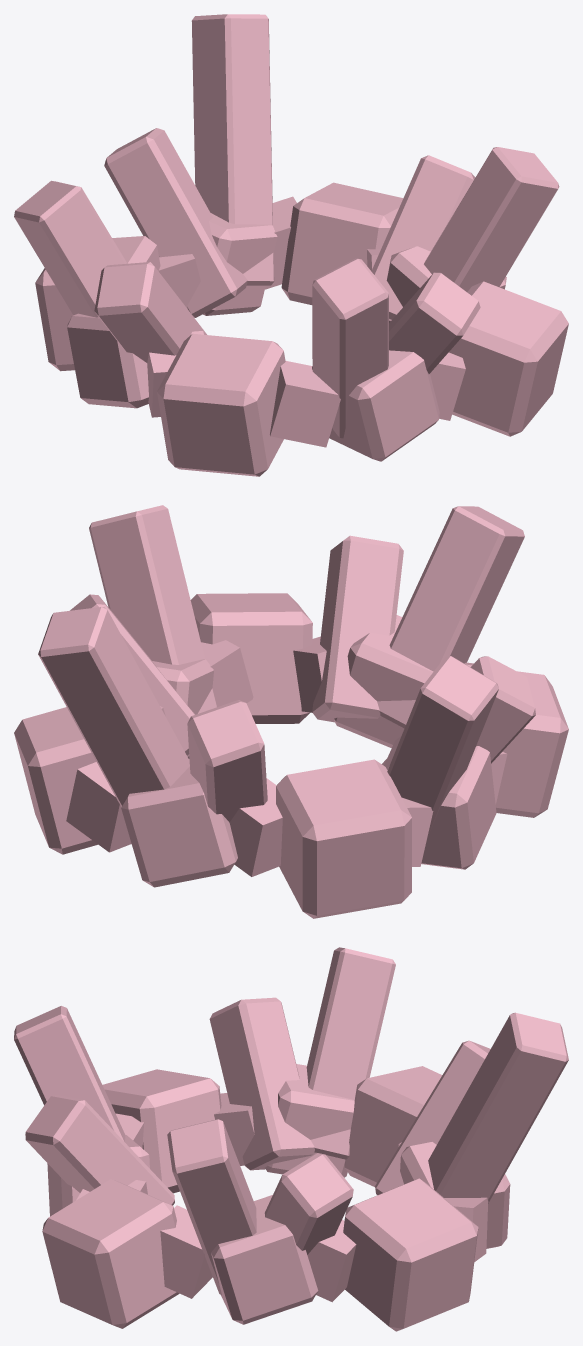
File: SaltNode_Harvested_Merged.fbx
3 renders of one model, top to bottom at view 1: azimuth 30°, elevation 25°; view 2: azimuth 150°, elevation 25°; view 3: azimuth 270°, elevation 25°, orthographic. The views are drawn at different scales.
Parts seen in each view (by area): view 1: Cube; view 2: Cube; view 3: Cube.
Part boxes in pixels (bbox=[...]): Cube: bbox=[14, 14, 568, 476]; Cube: bbox=[14, 505, 568, 918]; Cube: bbox=[14, 947, 568, 1331].
Size of the model in its own units: 342 by 201 by 380.
